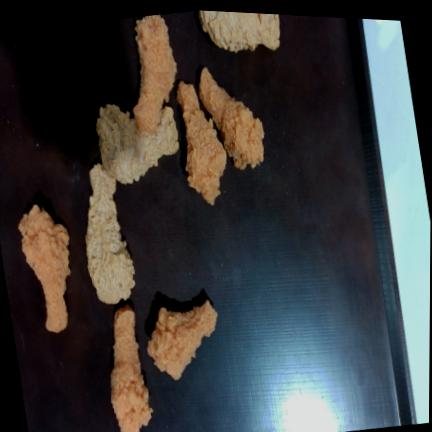chicken: (86, 163, 135, 304), (19, 204, 71, 332), (199, 68, 264, 169), (96, 104, 179, 183), (177, 81, 227, 205), (148, 300, 217, 379), (111, 304, 153, 432), (133, 14, 177, 133), (199, 10, 280, 52)
